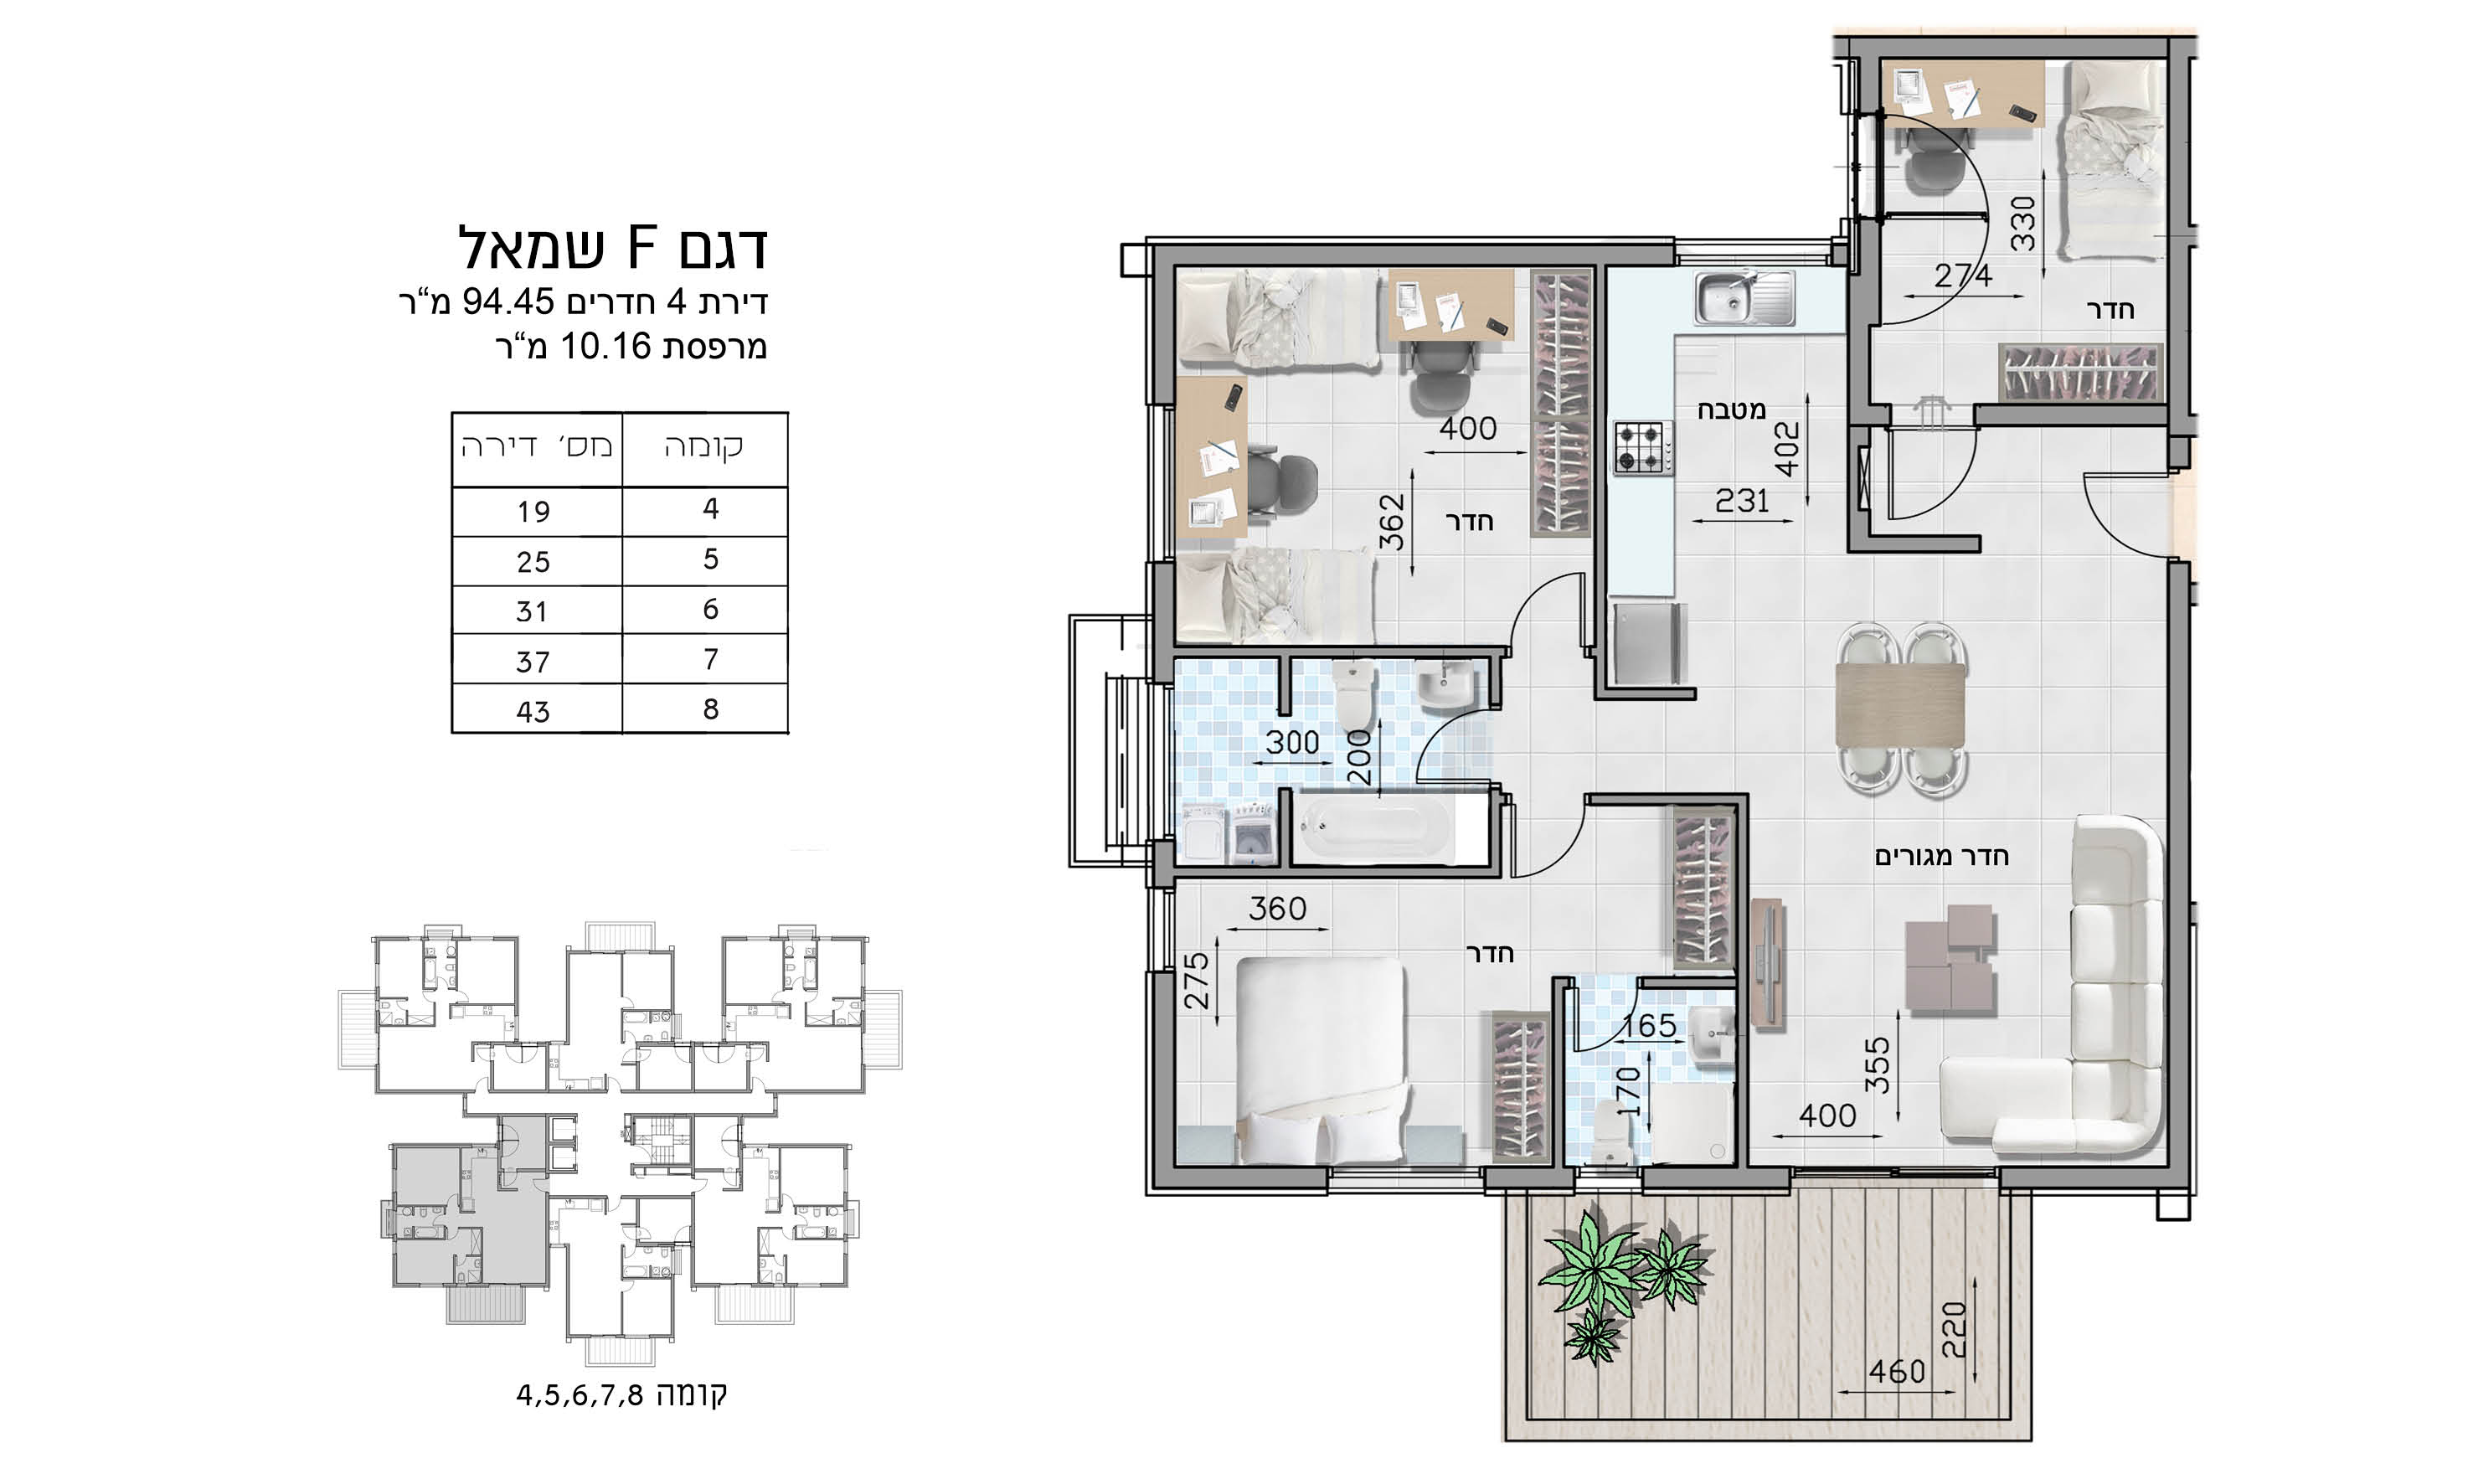door: (2070, 461, 2144, 574), (1876, 456, 1982, 526), (1507, 816, 1599, 889), (1494, 560, 1590, 629), (1401, 726, 1479, 786), (1569, 1002, 1616, 1056)
wall: (2171, 562, 2192, 1191), (2167, 39, 2189, 435), (1595, 265, 1609, 703), (1153, 973, 1178, 1187), (1175, 864, 1503, 880), (1975, 403, 2169, 429), (1738, 797, 1747, 1170), (1643, 1166, 1789, 1187), (1484, 1164, 1574, 1187)
window: (1150, 244, 1675, 263), (1330, 1166, 1482, 1180), (1162, 406, 1175, 560), (1897, 1164, 2000, 1180), (1791, 1168, 1897, 1180), (1162, 887, 1173, 968)
